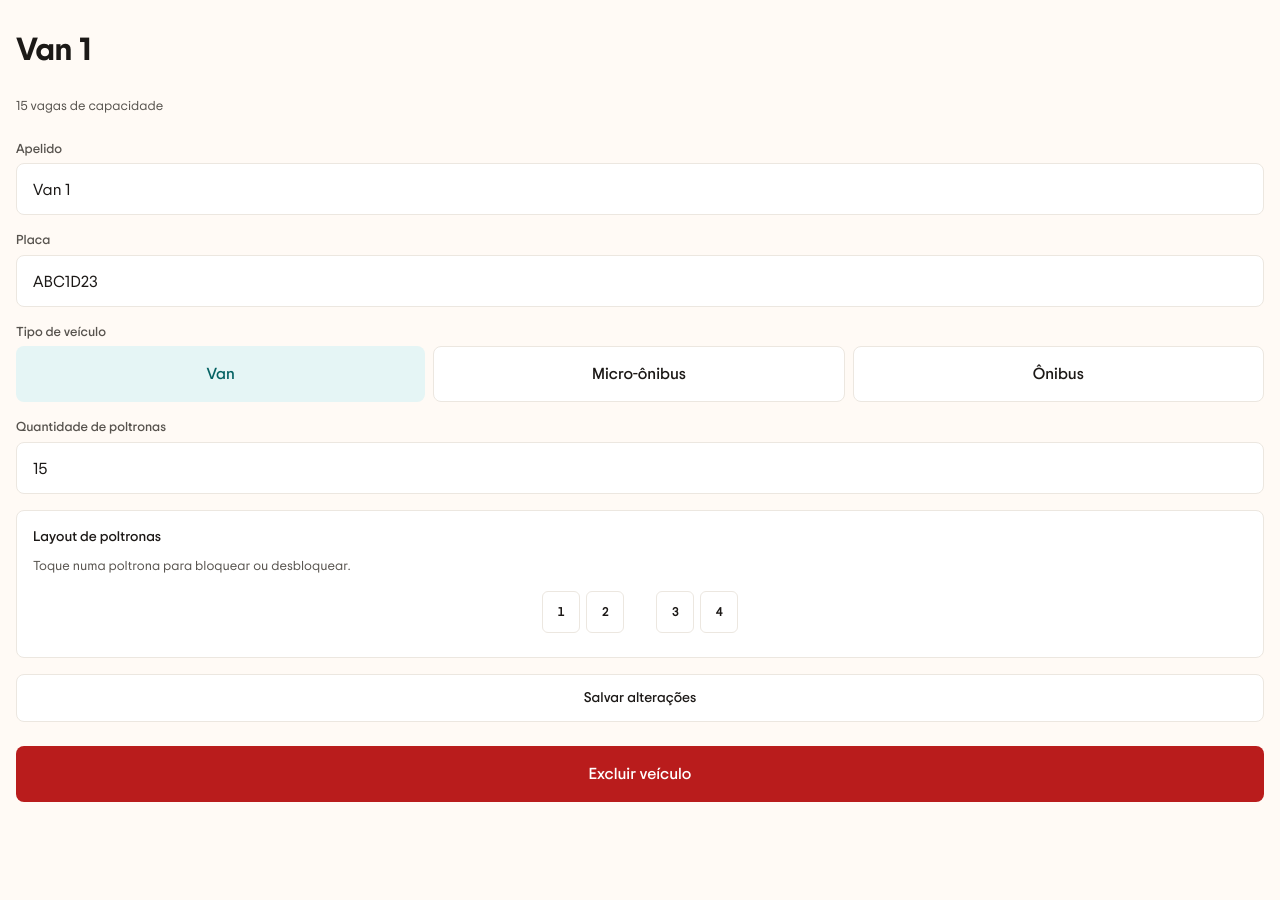
VeiculoDetalhePage › bloqueia a exclusão quando há excursão futura vinculada
Expected: the heading "Van 1" is shown, [16,26,91,70]
What coordinates should you click on to do the following:
click the button "Excluir veículo"
I would click on:
 (640, 774)
Its box is [16,746,1264,802].
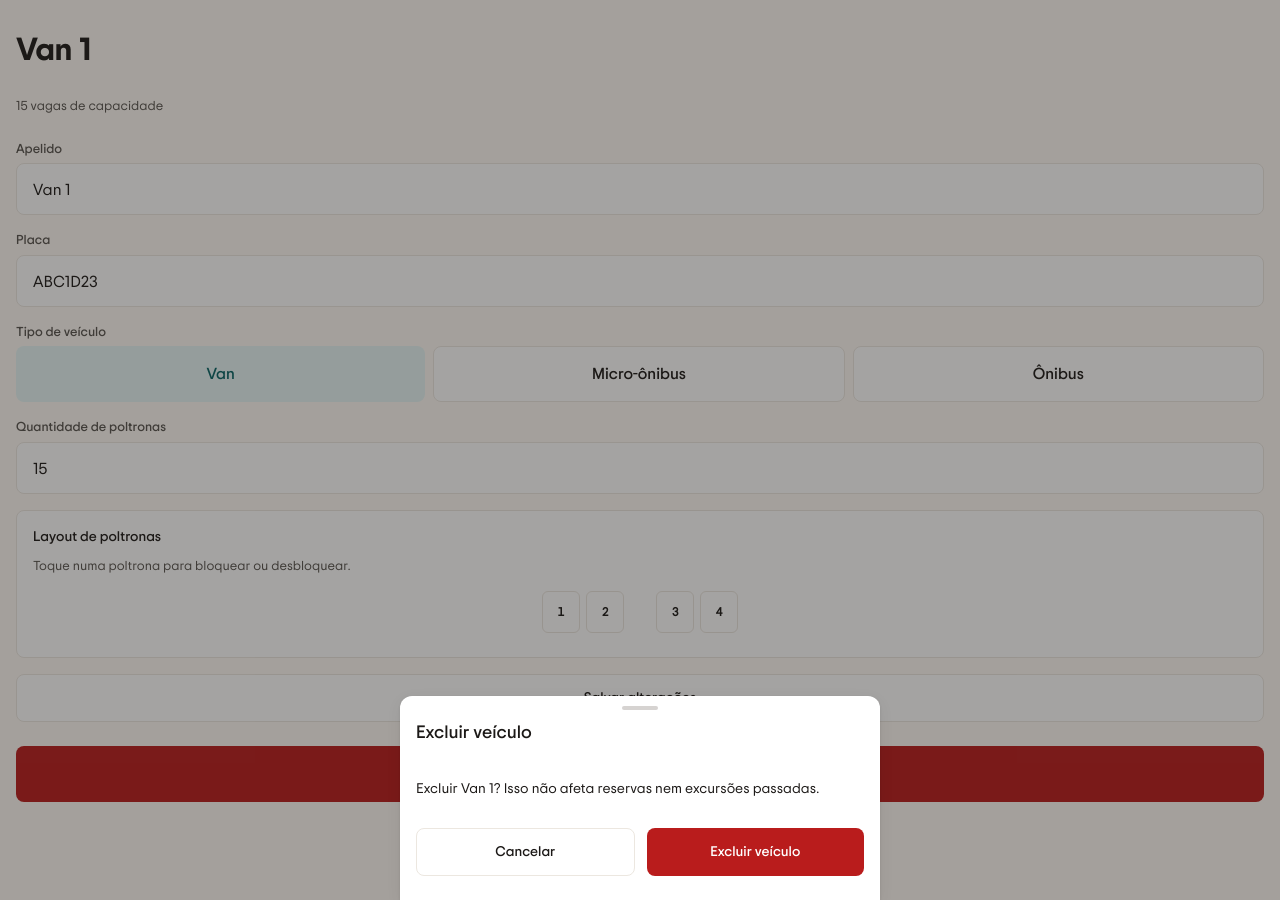
What coordinates should you click on to do the following:
click the 2nd button "Excluir veículo"
I would click on:
 (755, 852)
Its box is [647,828,864,876].
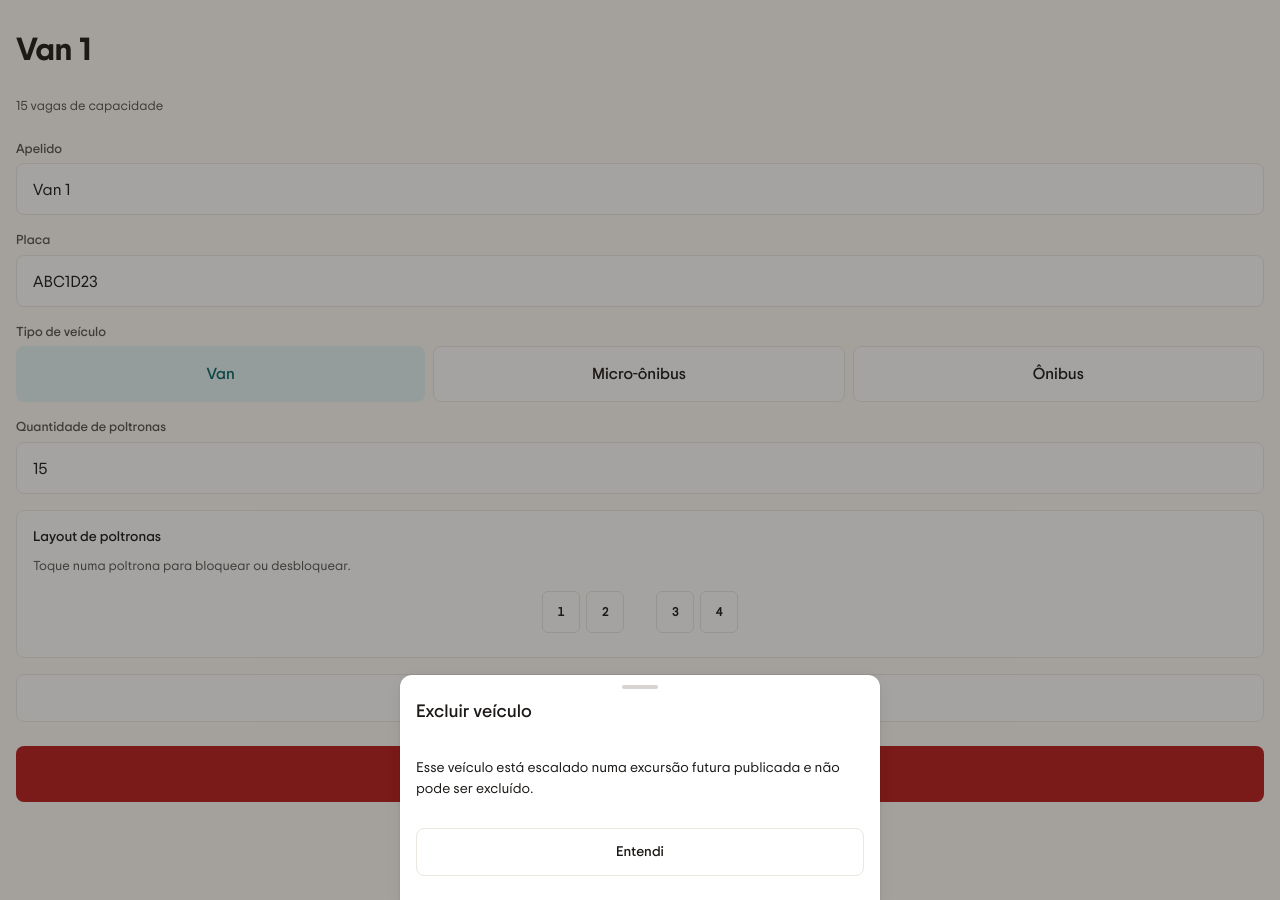
Now the text "Esse veículo está escalado numa excursão futura publicada e não pode ser excluído." is shown, box [416,757,840,797]
Now the button "Entendi" is shown, box [416,828,864,876]
